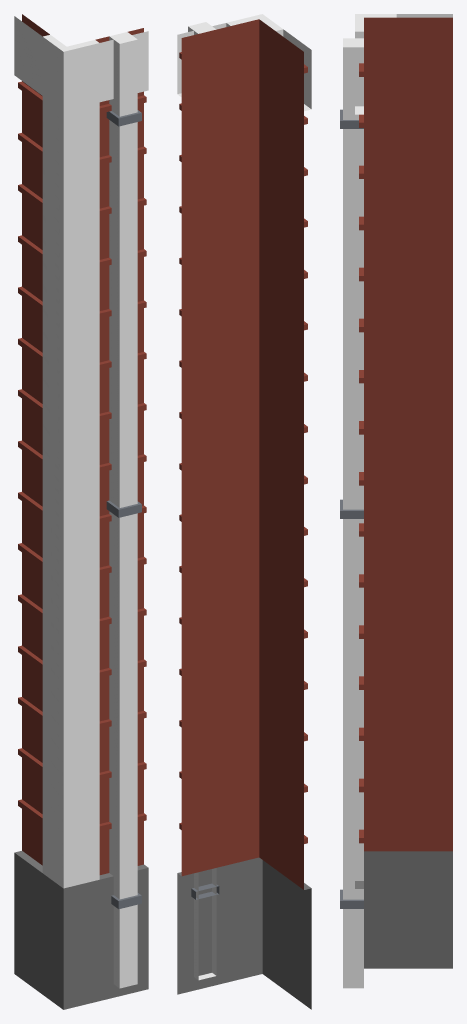
The model's file is base-c1_close.fbx.
The picture shows the model from 3 angles, left to right: view 1: azimuth 30°, elevation 25°; view 2: azimuth 210°, elevation 25°; view 3: azimuth 270°, elevation 25°; orthographic projection.
Parts seen in each view (by area): view 1: a2000/200/base-c1_close; view 2: a2000/200/base-c1_close; view 3: a2000/200/base-c1_close.
Boxes of the visible parts, x1,y1,x2,y2 form: a2000/200/base-c1_close: (14, 14, 148, 1009); a2000/200/base-c1_close: (177, 14, 311, 1009); a2000/200/base-c1_close: (340, 14, 452, 988).
Size of the model in its own units: 0.33 by 3.55 by 0.38.
